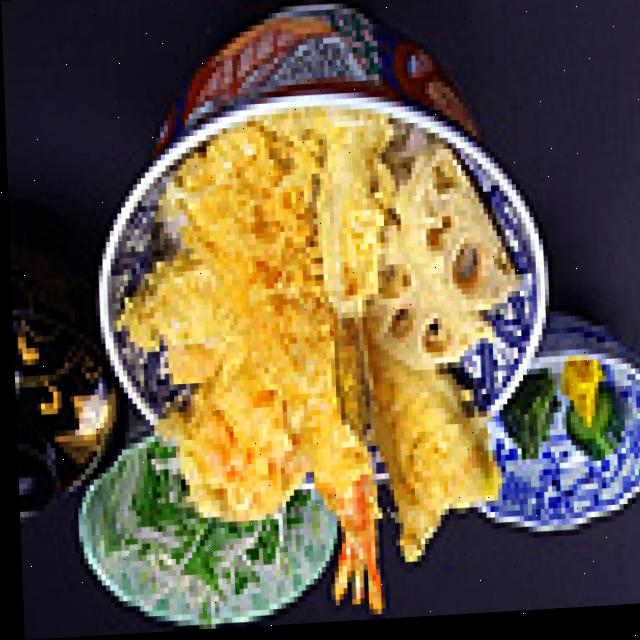熟制海鲜: (97, 36, 564, 540)
